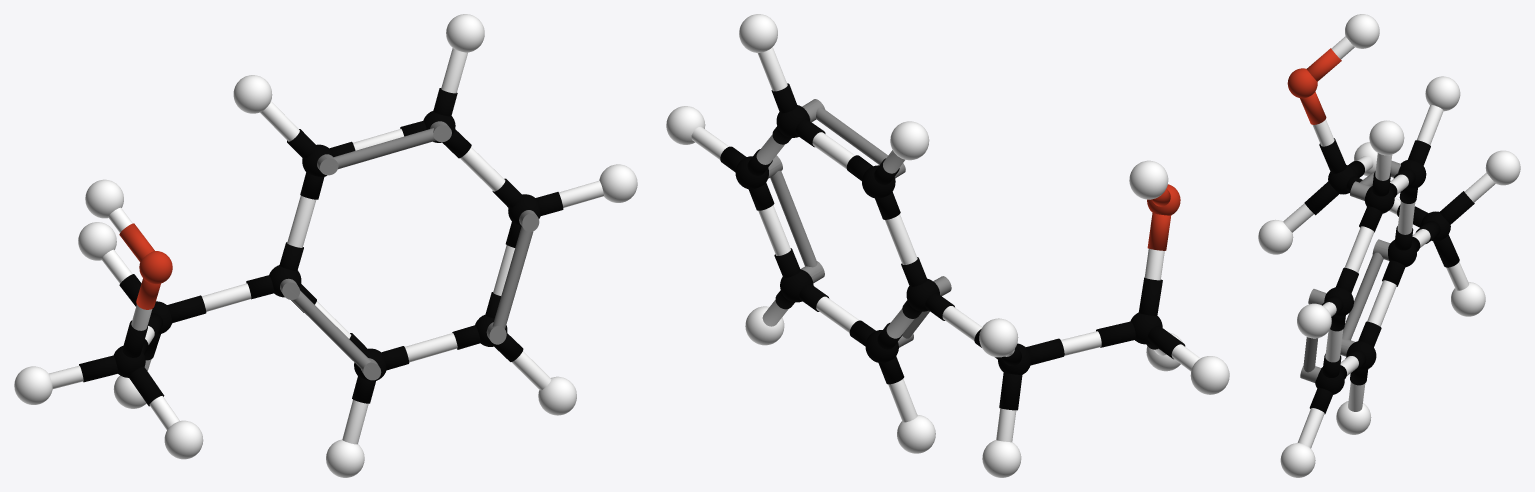
File: Alcool_Phenylethylique.dae
The picture shows the model from 3 angles, left to right: view 1: azimuth 30°, elevation 25°; view 2: azimuth 150°, elevation 25°; view 3: azimuth 270°, elevation 25°; orthographic projection. The views are drawn at different scales.
Parts seen in each view (by area): view 1: Liaison_double_001, Liaison_double, Liaison_double_002, Hydrogène_005, Hydrogène_003, Hydrogène_006, Hydrogène_004, Hydrogène_2, Hydrogène_001, Hydrogène_008, Hydrogène_000, Hydrogène_007 (+15 smaller); view 2: Liaison_double, Liaison_double_001, Hydrogène_007, Hydrogène_003, Hydrogène_008, Hydrogène_006, Hydrogène_004, Hydrogène_009, Hydrogène_001, Hydrogène_2, Hydrogène_000, LiaisonSimple_035 (+22 smaller); view 3: Liaison_double_002, Hydrogène_2, Hydrogène_004, Hydrogène_000, Hydrogène_007, Hydrogène_008, Hydrogène_005, Hydrogène_003, Hydrogène_009, Liaison_double, Hydrogène_001, Oxygène_2v_001 (+38 smaller).
Part boxes in pixels (left/top/right/bottom): Liaison_double_001: left=317, top=121, right=451, bottom=175; Liaison_double: left=486, top=210, right=539, bottom=344; Liaison_double_002: left=280, top=278, right=381, bottom=380; Hydrogène_005: left=164, top=420, right=203, bottom=459; Hydrogène_003: left=233, top=75, right=272, bottom=113; Hydrogène_006: left=14, top=366, right=52, bottom=404; Hydrogène_004: left=446, top=14, right=484, bottom=52; Hydrogène_2: left=599, top=164, right=637, bottom=202; Hydrogène_001: left=326, top=439, right=364, bottom=477; Hydrogène_008: left=85, top=179, right=123, bottom=218; Hydrogène_000: left=538, top=376, right=576, bottom=415; Hydrogène_007: left=78, top=222, right=116, bottom=260; Liaison_double: left=768, top=155, right=824, bottom=283; Liaison_double_001: left=802, top=99, right=905, bottom=178; Hydrogène_007: left=979, top=318, right=1018, bottom=357; Hydrogène_003: left=890, top=121, right=929, bottom=160; Hydrogène_008: left=1129, top=160, right=1168, bottom=199; Hydrogène_006: left=1190, top=356, right=1229, bottom=394; Hydrogène_004: left=739, top=14, right=777, bottom=52; Hydrogène_009: left=982, top=440, right=1021, bottom=477; Hydrogène_001: left=897, top=414, right=935, bottom=453; Hydrogène_2: left=666, top=106, right=705, bottom=144; Hydrogène_000: left=745, top=306, right=784, bottom=345; LiaisonSimple_035: left=758, top=205, right=790, bottom=255; Liaison_double_002: left=1340, top=239, right=1389, bottom=356; Hydrogène_2: left=1297, top=303, right=1331, bottom=338; Hydrogène_004: left=1369, top=120, right=1404, bottom=155; Hydrogène_000: left=1280, top=443, right=1315, bottom=477; Hydrogène_007: left=1485, top=150, right=1520, bottom=185; Hydrogène_008: left=1345, top=14, right=1379, bottom=48; Hydrogène_005: left=1258, top=219, right=1293, bottom=254; Hydrogène_003: left=1425, top=76, right=1460, bottom=111; Hydrogène_009: left=1451, top=282, right=1485, bottom=316; Liaison_double: left=1300, top=289, right=1326, bottom=382; Hydrogène_001: left=1336, top=401, right=1371, bottom=434; Oxygène_2v_001: left=1287, top=68, right=1317, bottom=98.
Size of the model in its own units: 7.5 by 3.23 by 5.05.
